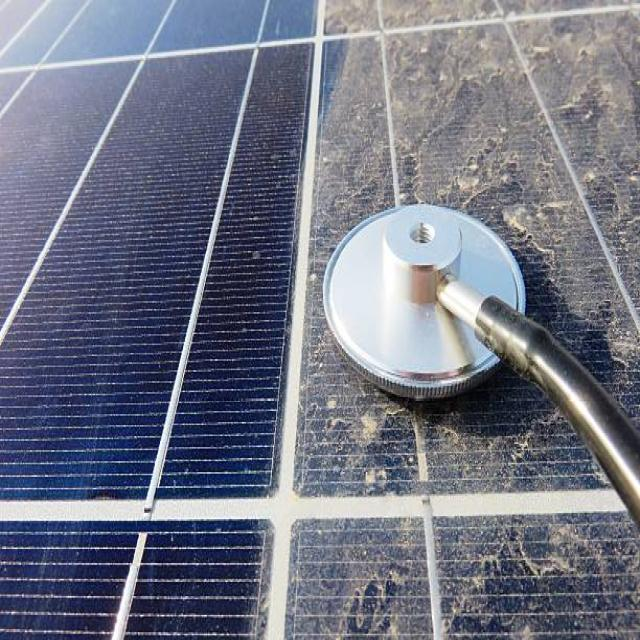Anomaly Solar Panel: (282, 0, 640, 636)
Normal Solar Panel: (0, 0, 317, 638)
Surface Contaminant: (327, 0, 635, 210), (291, 516, 640, 639), (295, 368, 576, 486), (498, 218, 640, 420)
